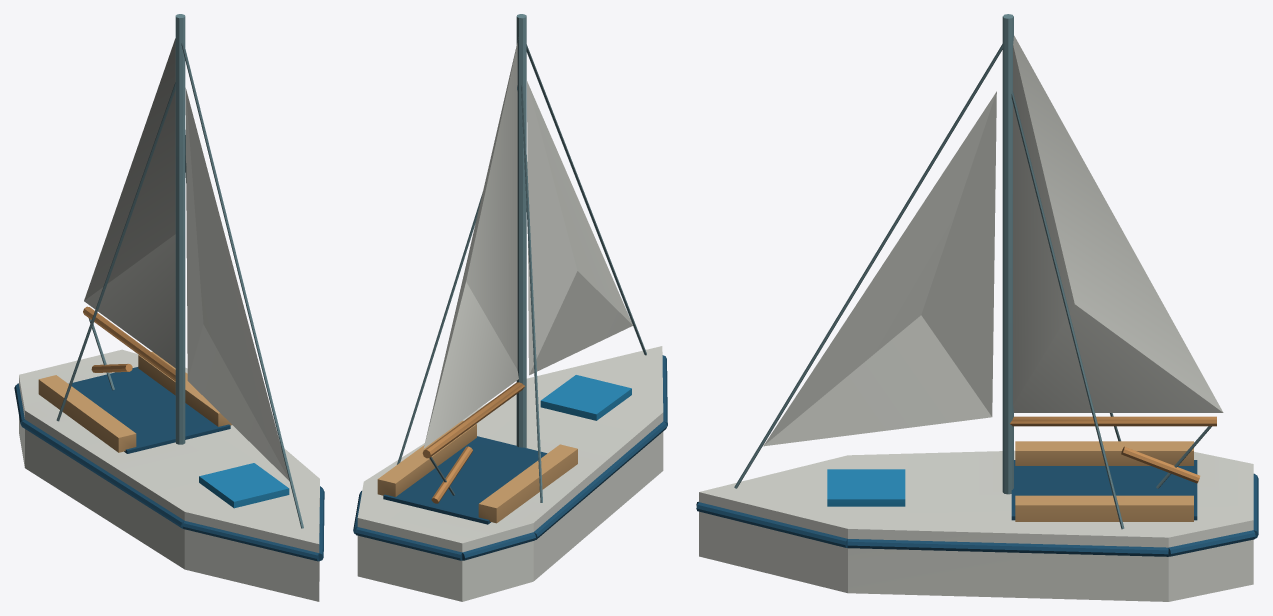
File: sailboat.glb
3 views of the same model, side by side, from view 1: azimuth 30°, elevation 25°; view 2: azimuth 150°, elevation 25°; view 3: azimuth 270°, elevation 25° (orthographic). The views are drawn at different scales.
Visible parts, largest first — view 1: rounded sailing hull, blue sheer stripe, mast, cockpit bench, foredeck hatch, boom; view 2: rounded sailing hull, blue sheer stripe, mast, cockpit bench, foredeck hatch, boom; view 3: rounded sailing hull, blue sheer stripe, mast, cockpit bench, foredeck hatch, boom.
Part boxes in pixels (box(x1,y1,x2,y2)): rounded sailing hull: box(19, 38, 319, 601); blue sheer stripe: box(14, 367, 324, 561); mast: box(56, 14, 303, 528); cockpit bench: box(38, 351, 231, 452); foredeck hatch: box(199, 463, 289, 508); boom: box(83, 306, 175, 381); rounded sailing hull: box(357, 37, 663, 601); blue sheer stripe: box(353, 355, 667, 560); mast: box(397, 14, 646, 502); cockpit bench: box(377, 420, 577, 523); foredeck hatch: box(540, 375, 631, 420); boom: box(422, 382, 524, 503); rounded sailing hull: box(699, 35, 1253, 601); blue sheer stripe: box(696, 460, 1258, 556); mast: box(734, 14, 1211, 529); cockpit bench: box(1015, 441, 1193, 521); foredeck hatch: box(827, 469, 905, 506); boom: box(1009, 416, 1216, 483).
Bounding box in the file's own units: 0.9839 × 2.6 × 2.45.
